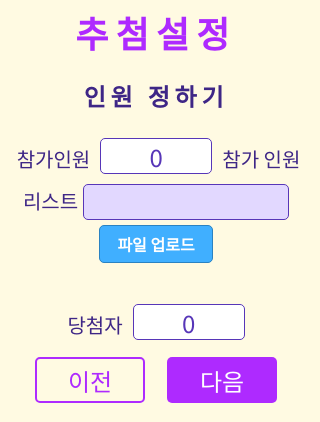
참가인원 수가 범위의 하한선 보다 작으면, 오류메시지 출력하기
This screenshot has width=320, height=422.
In the number field labelled "참가인원": (156, 156) [100, 138, 212, 174], type "-50000"
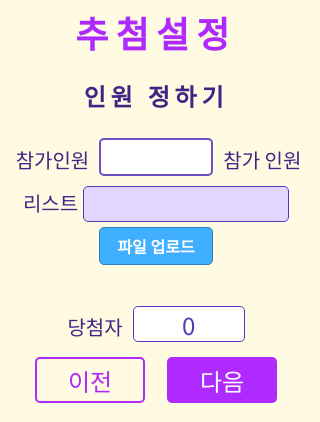
Click the button "다음": click(222, 380) [167, 357, 277, 403]
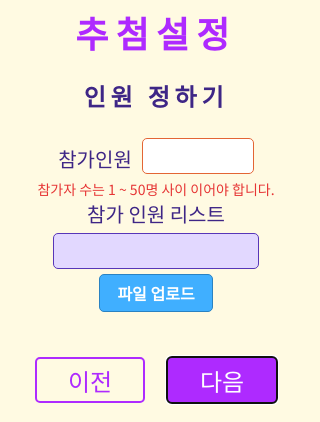
Now the text "참가자 수는 1 ~ 50명 사이 이어야 합니다." is shown, box [37, 179, 275, 199]
